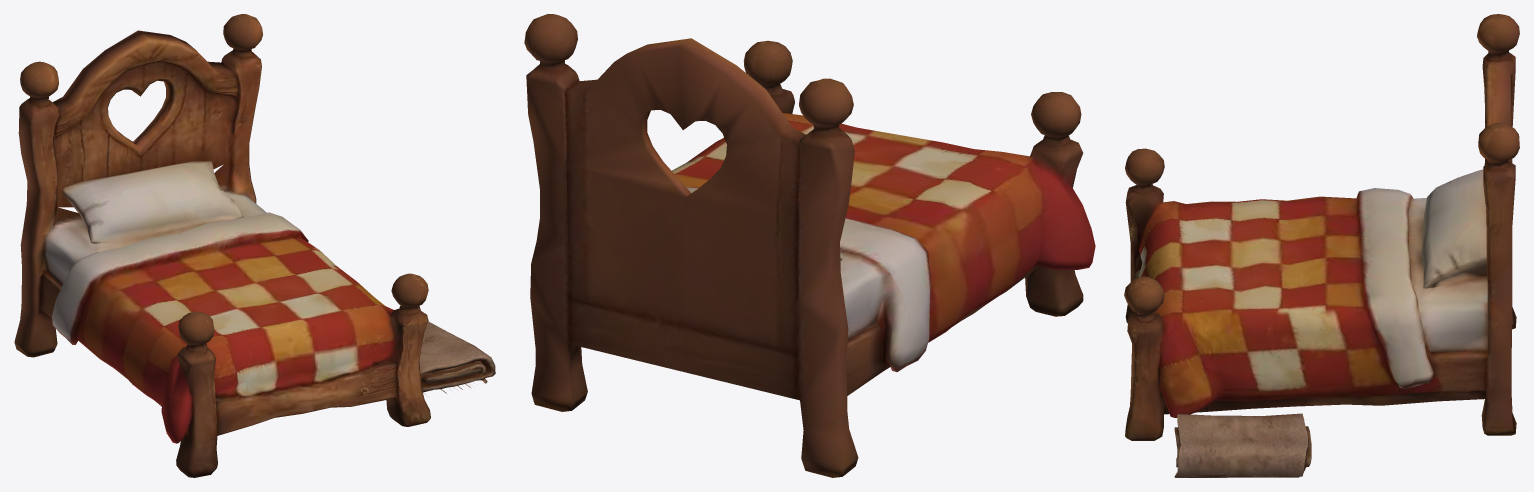
Rendered from wyn_furn_cottage_bed.glb.
3 views of the same model, side by side, from view 1: azimuth 30°, elevation 25°; view 2: azimuth 150°, elevation 25°; view 3: azimuth 270°, elevation 25° (orthographic). The views are drawn at different scales.
Visible parts, largest first — view 1: tripo_node_39b90ffa-fba2-454f-b33a-49b75e25f0bc; view 2: tripo_node_39b90ffa-fba2-454f-b33a-49b75e25f0bc; view 3: tripo_node_39b90ffa-fba2-454f-b33a-49b75e25f0bc.
Part boxes in pixels (bbox=[...]): tripo_node_39b90ffa-fba2-454f-b33a-49b75e25f0bc: bbox=[14, 14, 495, 477]; tripo_node_39b90ffa-fba2-454f-b33a-49b75e25f0bc: bbox=[524, 14, 1095, 477]; tripo_node_39b90ffa-fba2-454f-b33a-49b75e25f0bc: bbox=[1124, 14, 1519, 477].
Bounding box in the file's own units: 1.59 × 1.3 × 1.49.
Materials: 1 (1 with a texture image).
